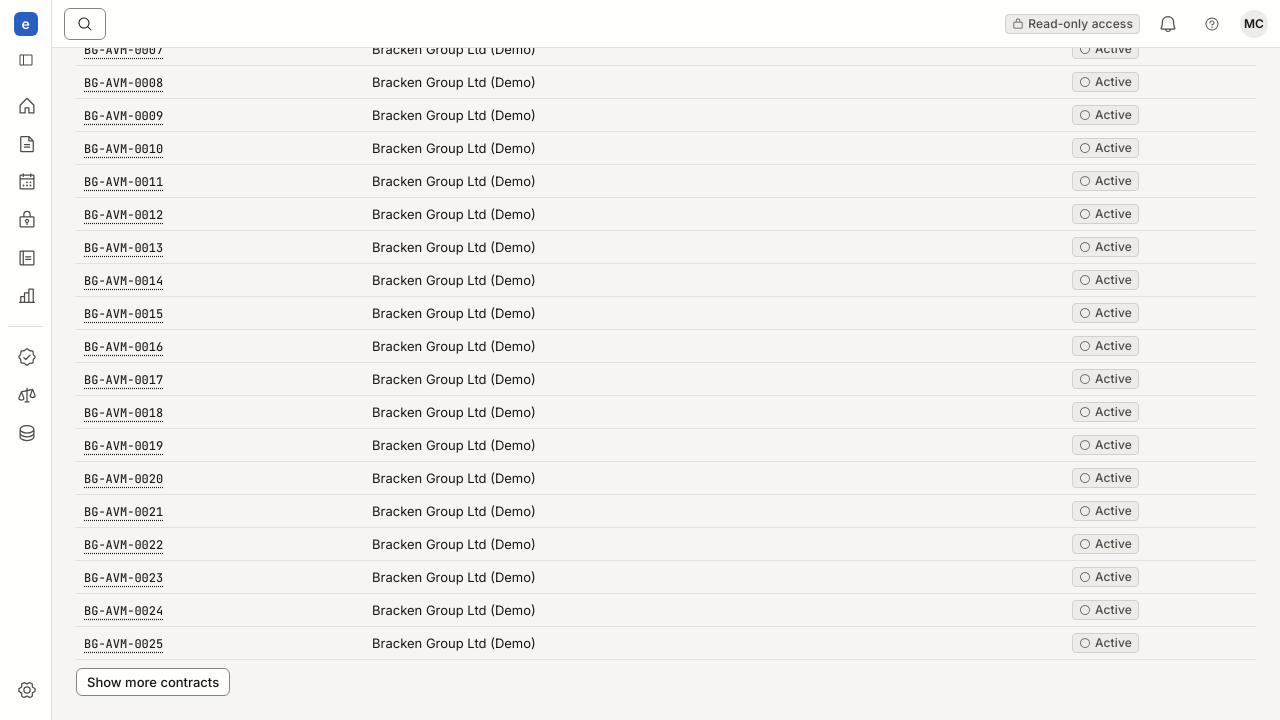
Test: SF-24:results › a next page that cannot be read says so under its table, and Retry reads it again
The image size is (1280, 720).
(page scrolled)
Click the button "Show more contracts" at (153, 682), box [76,668,230,696]
(page scrolled)
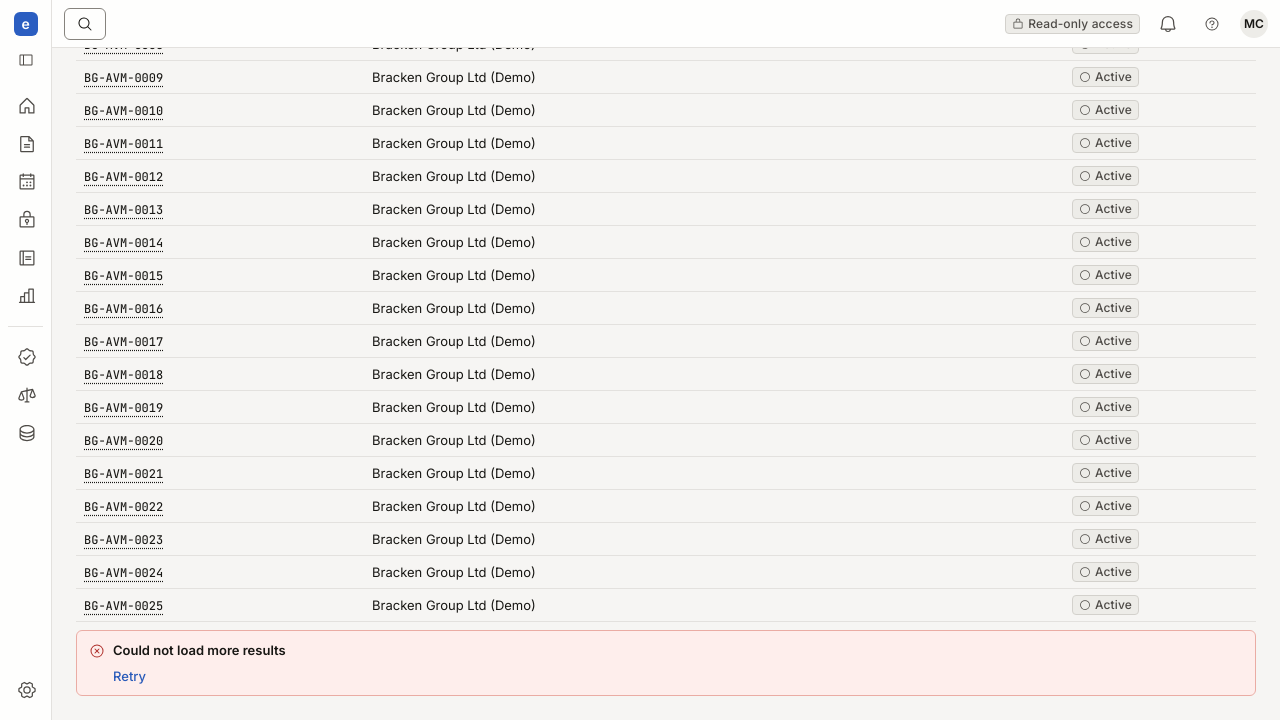
Check: the heading "Could not load more results" is shown, box [113,642,286,658]
Click the button "Retry" at (130, 676), box [113,667,146,685]
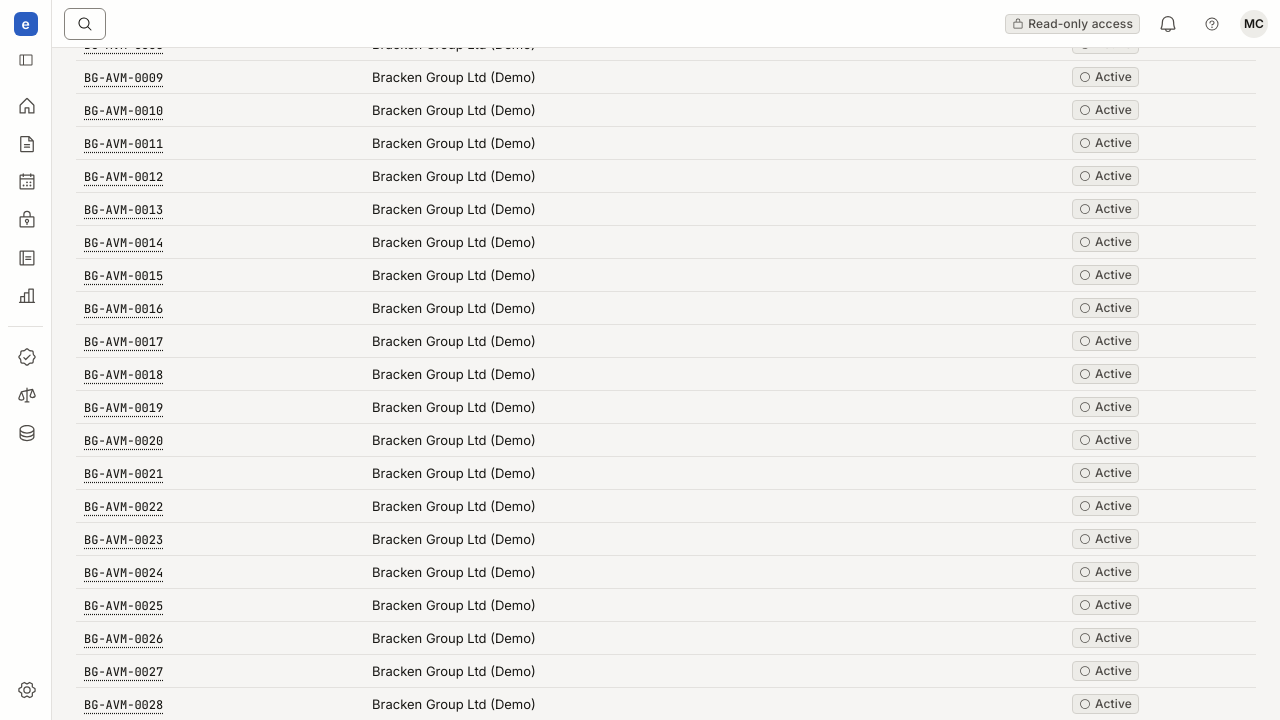
Check: the heading "Could not load more results" is gone
